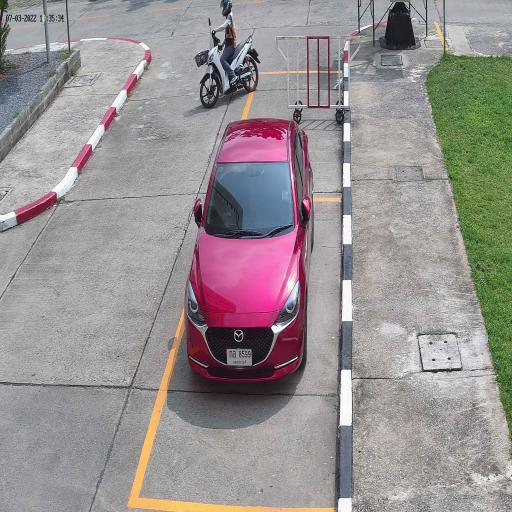car: (184, 116, 314, 386)
motorcycle: (199, 34, 259, 111)
